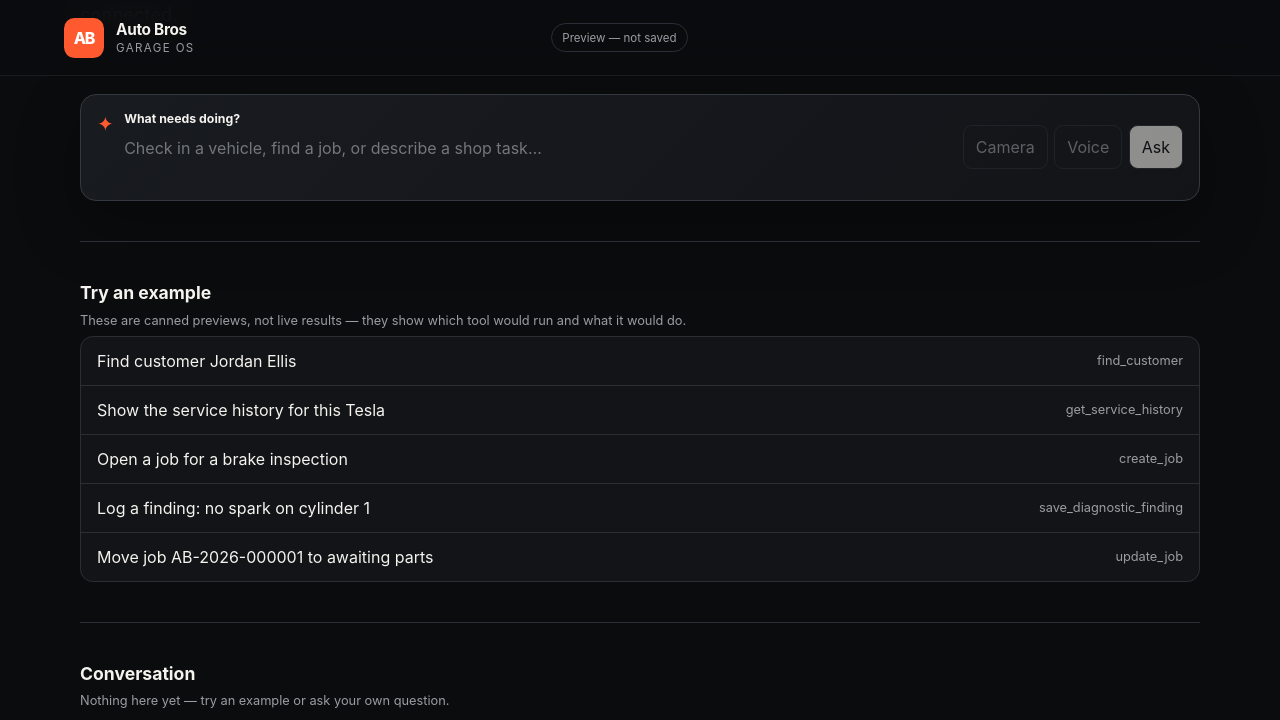
Scenario: AiCommandPage › clears the conversation
The image size is (1280, 720).
(page scrolled)
Step 1. Click the button "Find customer Jordan Ellis find_customer" → click(197, 361), box [81,337,1199,385]
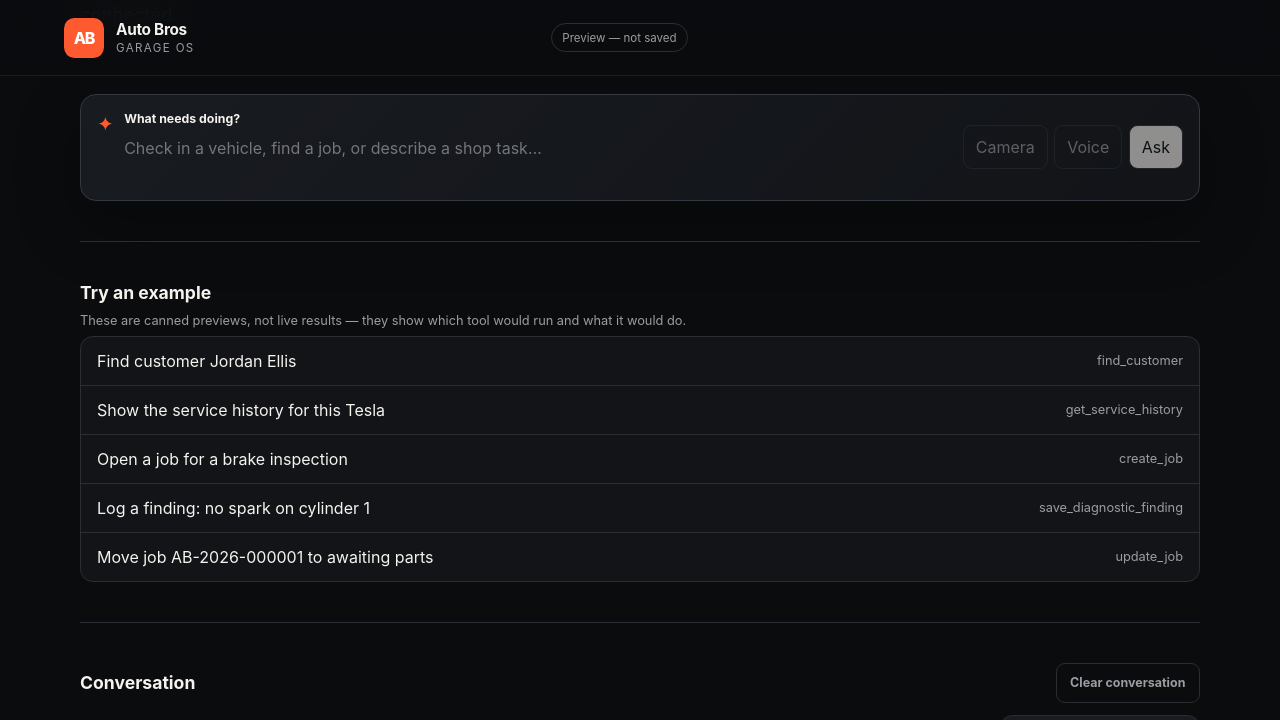
Check: the button "Clear conversation" is shown
Step 2. Click the button "Clear conversation" → click(1128, 683), box [1056,663,1200,703]
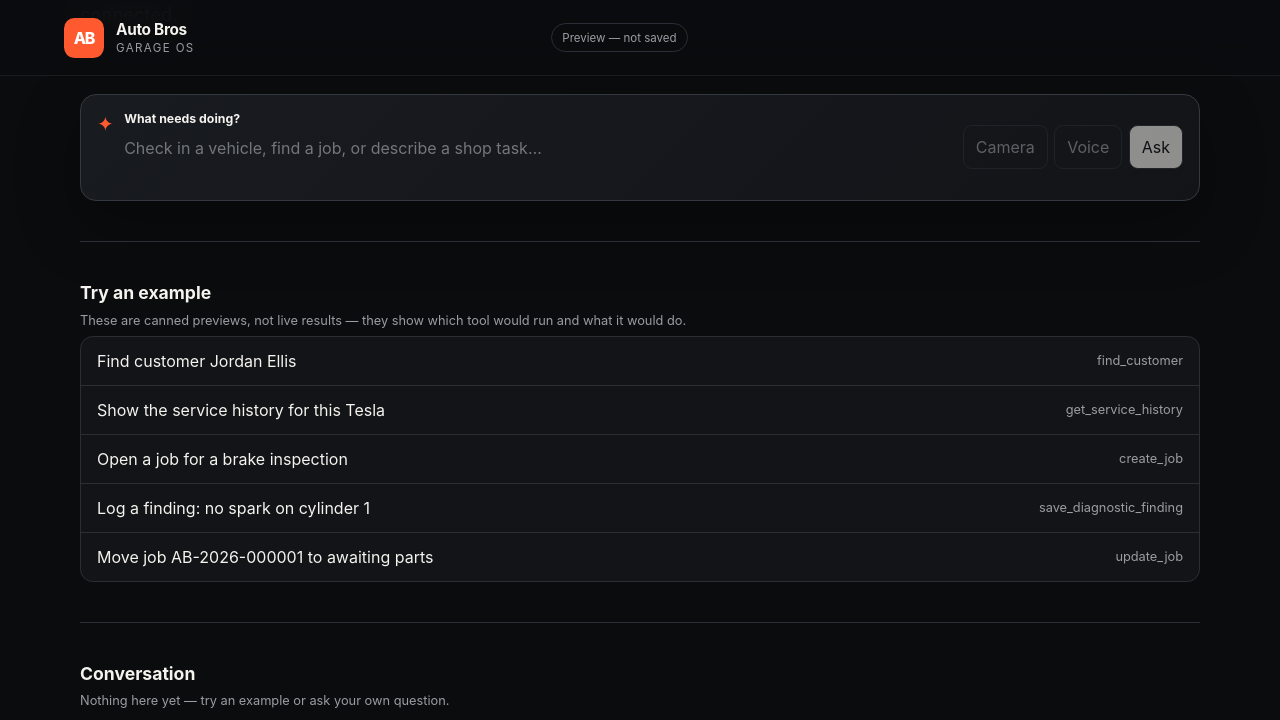
Check: the button "Clear conversation" is gone
